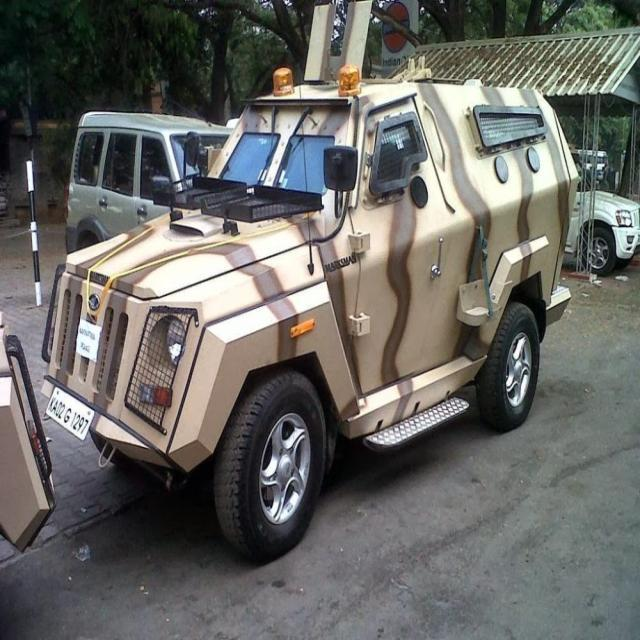plate: (44, 385, 94, 440)
